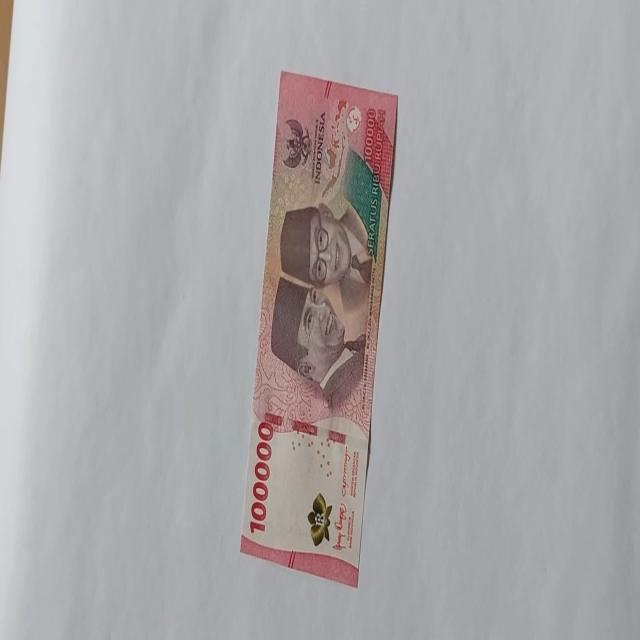seratus ribu rupiah: (238, 70, 398, 588), (270, 198, 374, 406)
